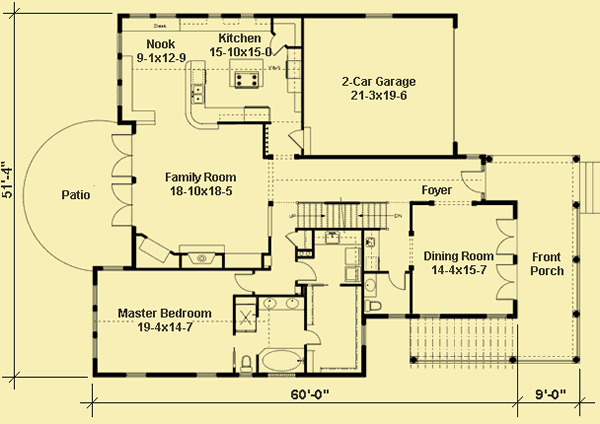small bathroom has sink and large sink: (362, 270, 412, 317)
there is a kitchen with a kitchen counter having a cooking range and sink: (181, 13, 302, 131)
there is a laundry room which has a washer and dryer: (312, 227, 362, 286)
this bathroom has a shower space, tub space, dual sinks and large sink: (233, 295, 306, 376)
